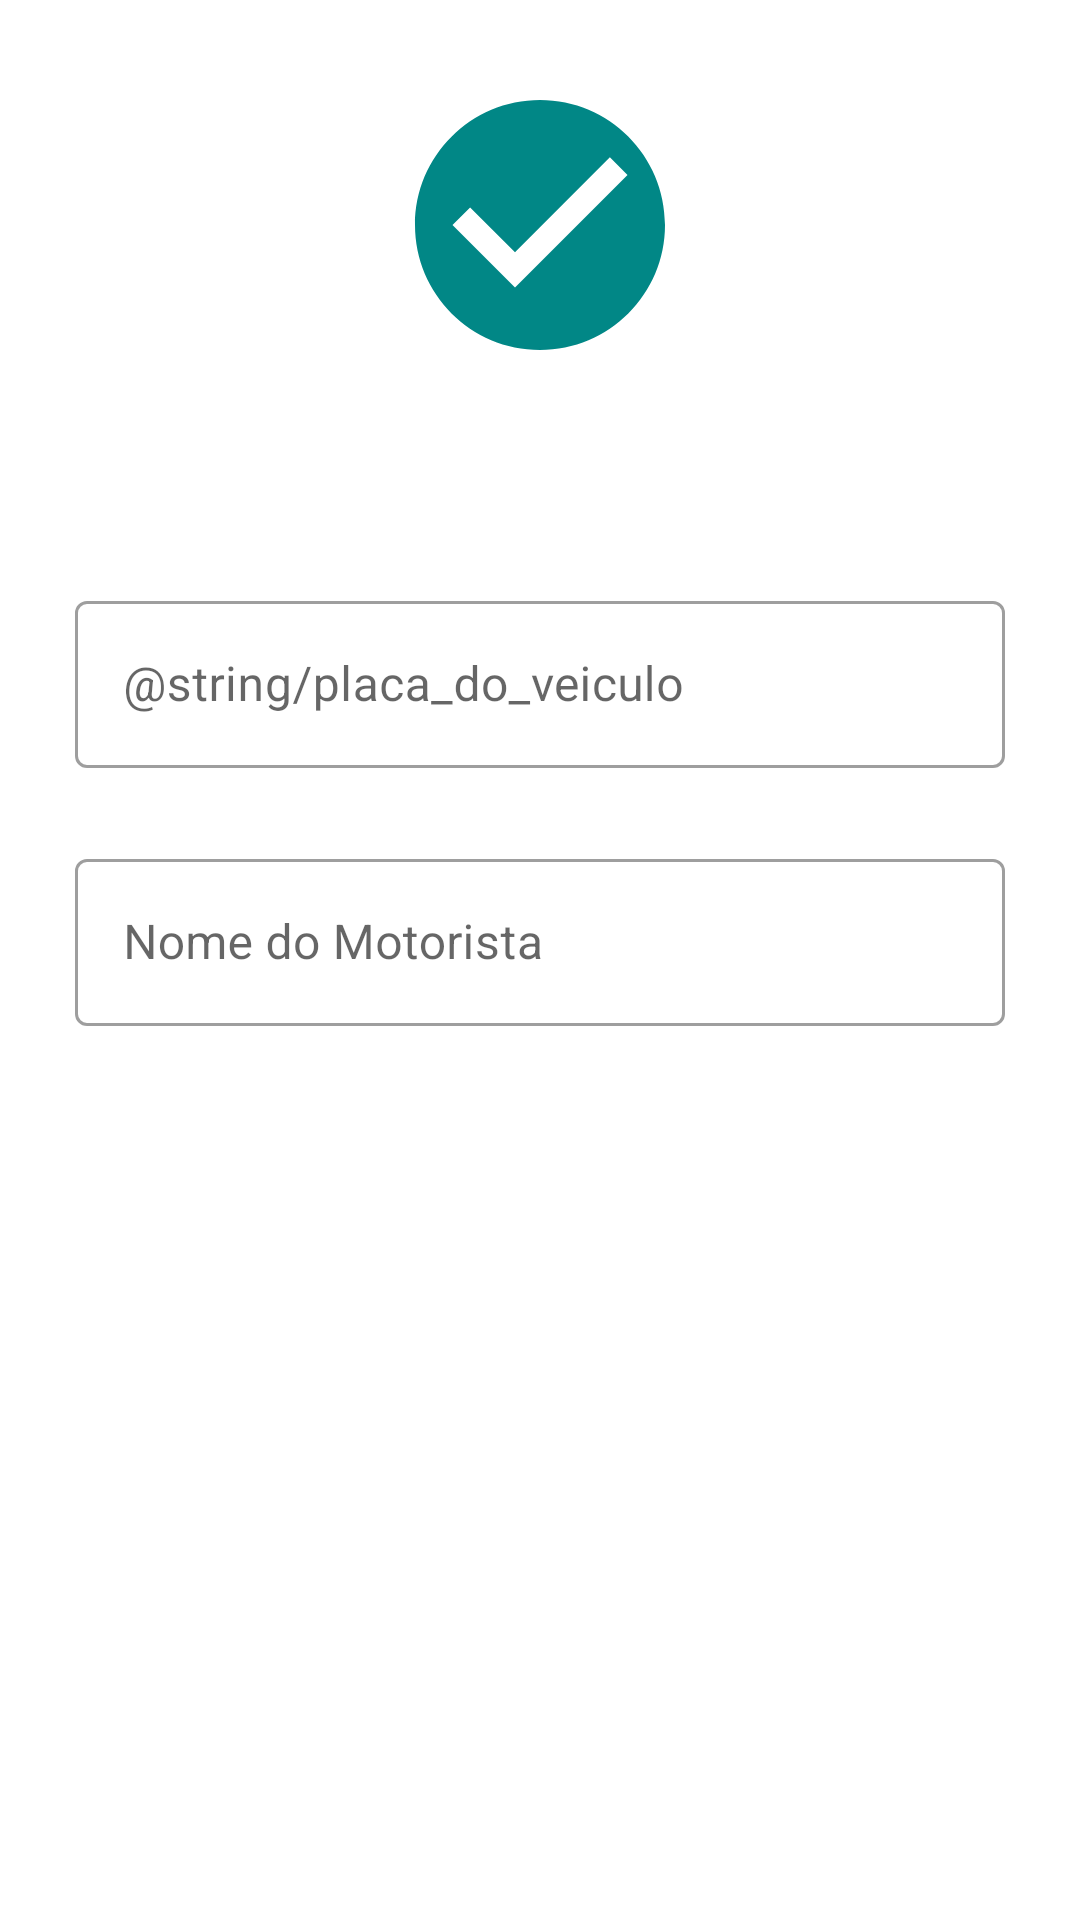

Icon click points for this 1080px x 1920px phone screenshot, format (x=x, y=y):
check verde: (x=540, y=225)
